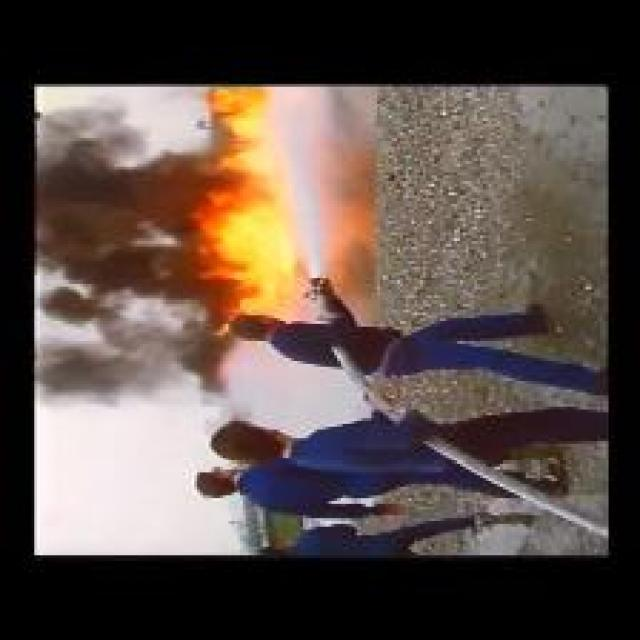Fire: (191, 89, 283, 317)
